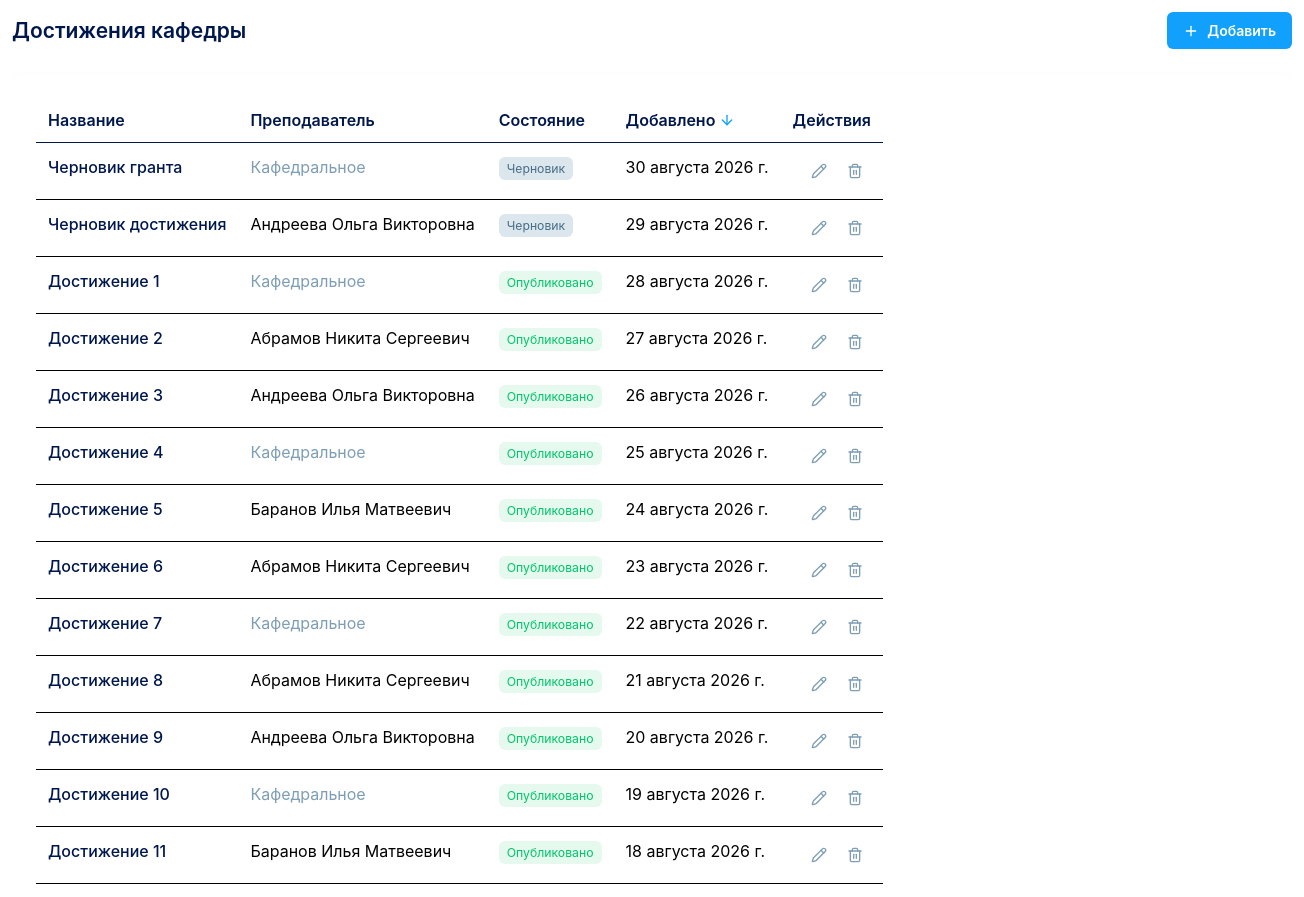
Test: AdminAchievementsPage, список › меняет порядок кликом по заголовку «Добавлено»
Click the button "Добавлено" at (680, 120), box x1=626 y1=108 x2=735 y2=132
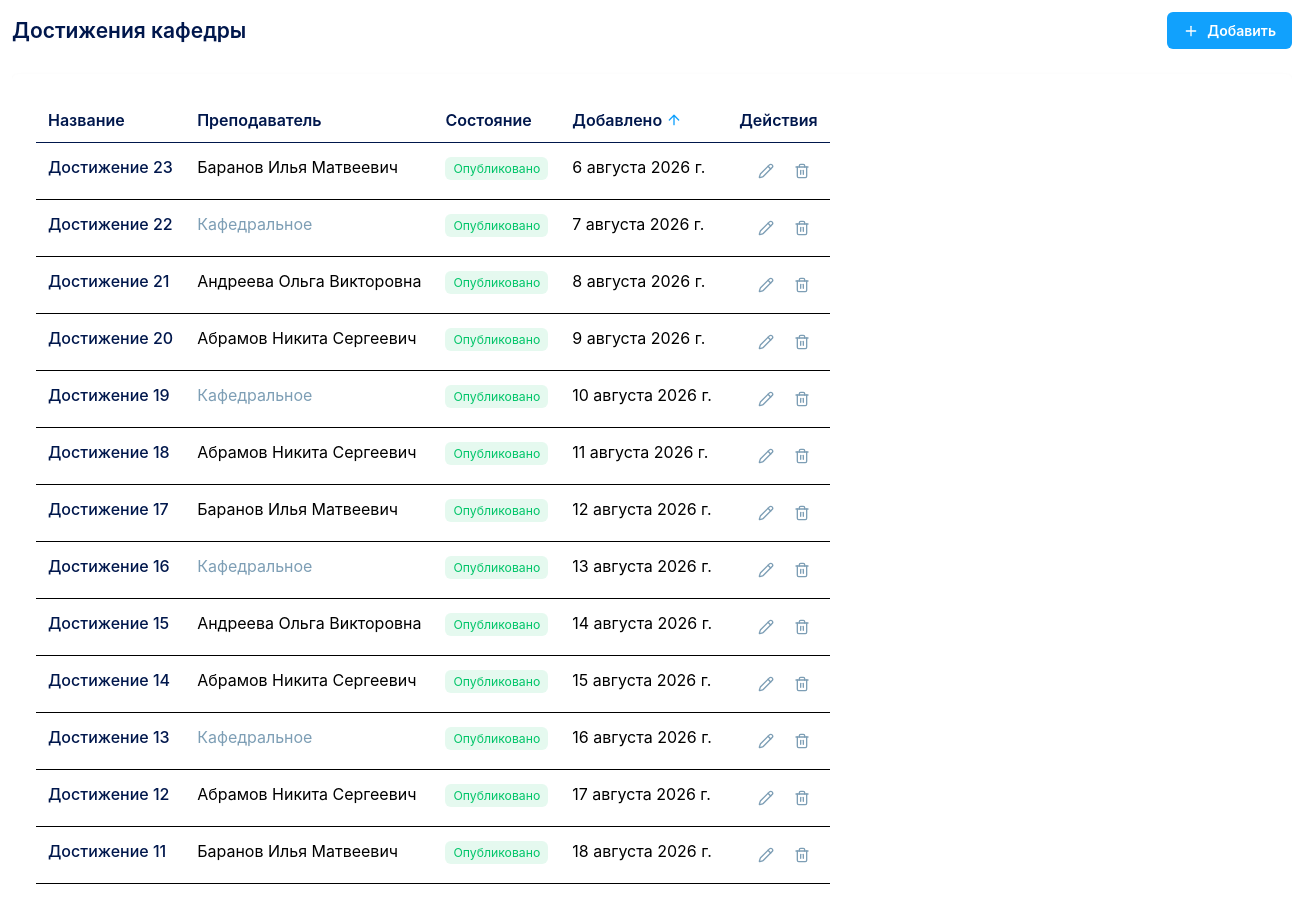
Result: the cell "Достижение 23" is shown at x1=36 y1=142 x2=185 y2=200
